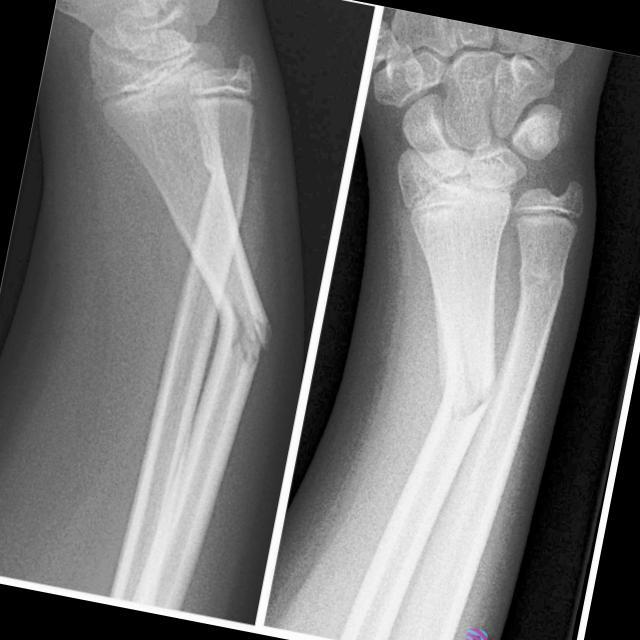GreenStick Fracture: (228, 296, 269, 369), (442, 359, 491, 419)
